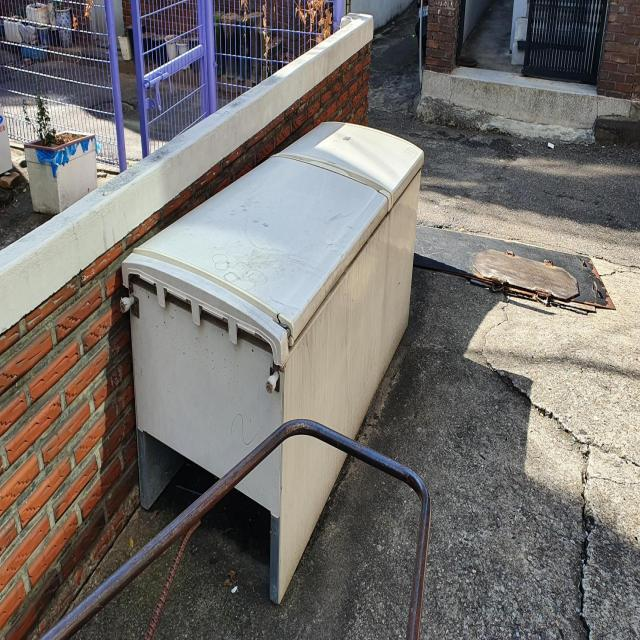refrigerator: (125, 119, 426, 606)
